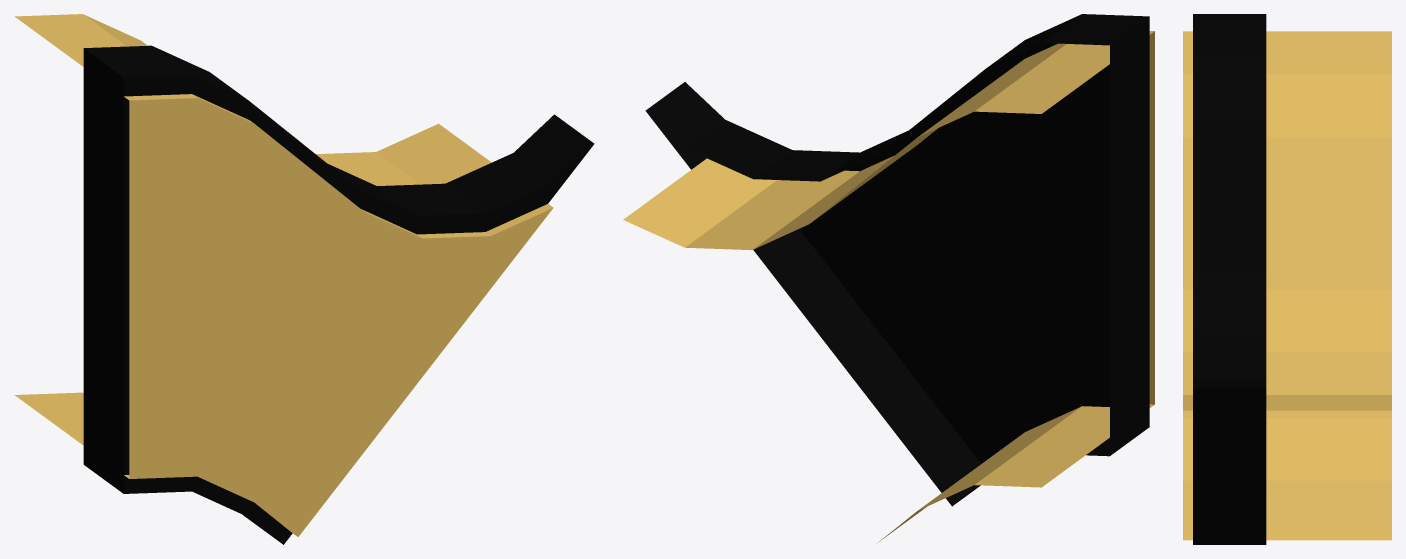
The model's file is Interior_Rampa2.fbx.
The picture shows the model from 3 angles, left to right: view 1: azimuth 30°, elevation 25°; view 2: azimuth 150°, elevation 25°; view 3: azimuth 270°, elevation 25°; orthographic projection. The views are drawn at different scales.
Visible parts, largest first — view 1: Rampa2_Interior, Rampa2_Interior.001; view 2: Rampa2_Interior.001, Rampa2_Interior; view 3: Rampa2_Interior, Rampa2_Interior.001.
Boxes of the visible parts, x1,y1,x2,y2 form: Rampa2_Interior: (14, 14, 553, 536); Rampa2_Interior.001: (83, 45, 594, 544); Rampa2_Interior.001: (645, 14, 1149, 506); Rampa2_Interior: (623, 31, 1154, 543); Rampa2_Interior: (1183, 31, 1391, 540); Rampa2_Interior.001: (1193, 14, 1266, 544).
Bounding box in the file's own units: 260 × 268 × 110.
